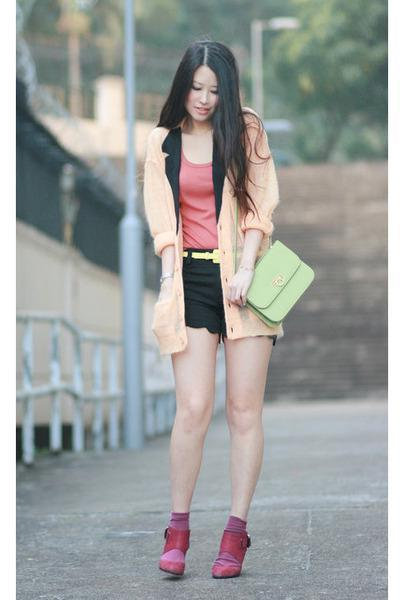Shorts: (170, 248, 277, 339)
jacket: (146, 100, 295, 355)
vest: (167, 146, 239, 263)
